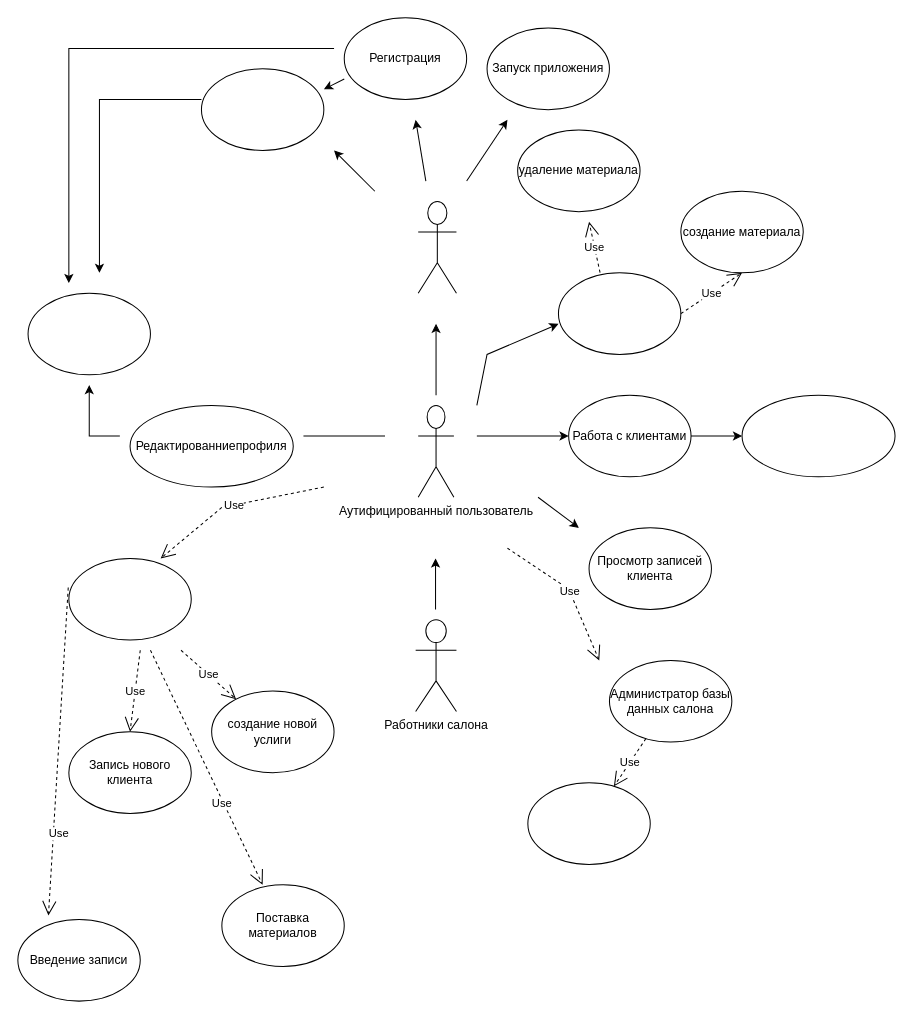
Image size: 913x1019. Some labels were removed from this diagram. The centre of each missing label's shape, as x and y in pixels:
Администратор салона: the point at 129,598
Вход: the point at 262,109
подтверждение номера: the point at 88,333
Пользователь: the point at 436,246
Работа с материалом: the point at 619,313
Редактирование провиля: the point at 818,435
Создать нового администратора: the point at 588,823
